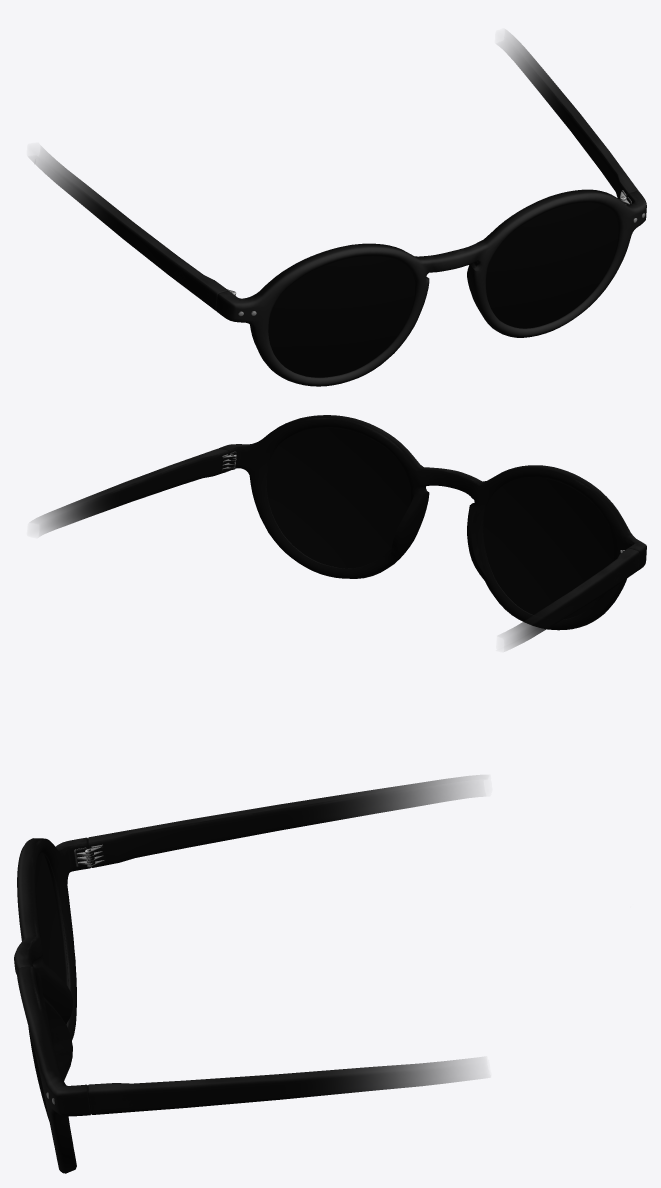
3 renders of one model, top to bottom at view 1: azimuth 30°, elevation 25°; view 2: azimuth 150°, elevation 25°; view 3: azimuth 270°, elevation 25°, orthographic. The views are drawn at different scales.
Visible parts, largest first — view 1: BZR_Classic_Black_Lens, BZR_Classic_Black_Frame_NoLogo; view 2: BZR_Classic_Black_Lens, BZR_Classic_Black_Frame_NoLogo; view 3: BZR_Classic_Black_Frame_NoLogo, BZR_Classic_Black_Lens.
Part boxes in pixels (x1,y1,x2,y2): BZR_Classic_Black_Lens: (268, 203, 618, 377); BZR_Classic_Black_Frame_NoLogo: (32, 33, 646, 386); BZR_Classic_Black_Lens: (266, 428, 613, 619); BZR_Classic_Black_Frame_NoLogo: (33, 415, 646, 649); BZR_Classic_Black_Frame_NoLogo: (14, 775, 479, 1173); BZR_Classic_Black_Lens: (28, 852, 64, 1121).
Bounding box in the file's own units: 17.3 × 5.14 × 15.98.
2 materials, 2 textured.
